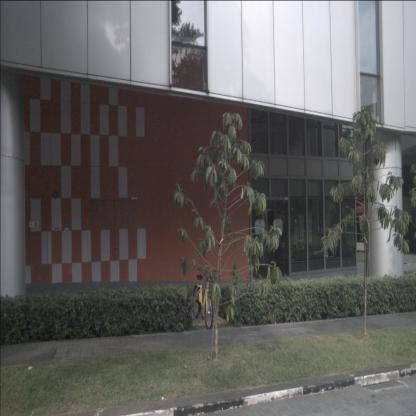vehicle-bicycle: (192, 267, 218, 330)
vehicle-car: (312, 244, 353, 267), (292, 243, 313, 260)
